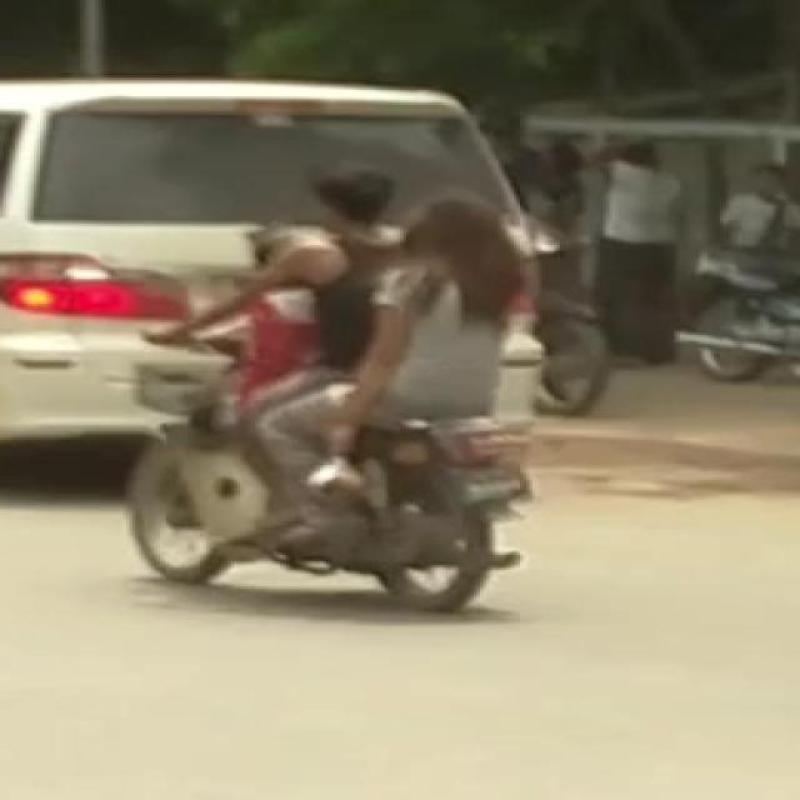nohelmet: (396, 178, 526, 290)
